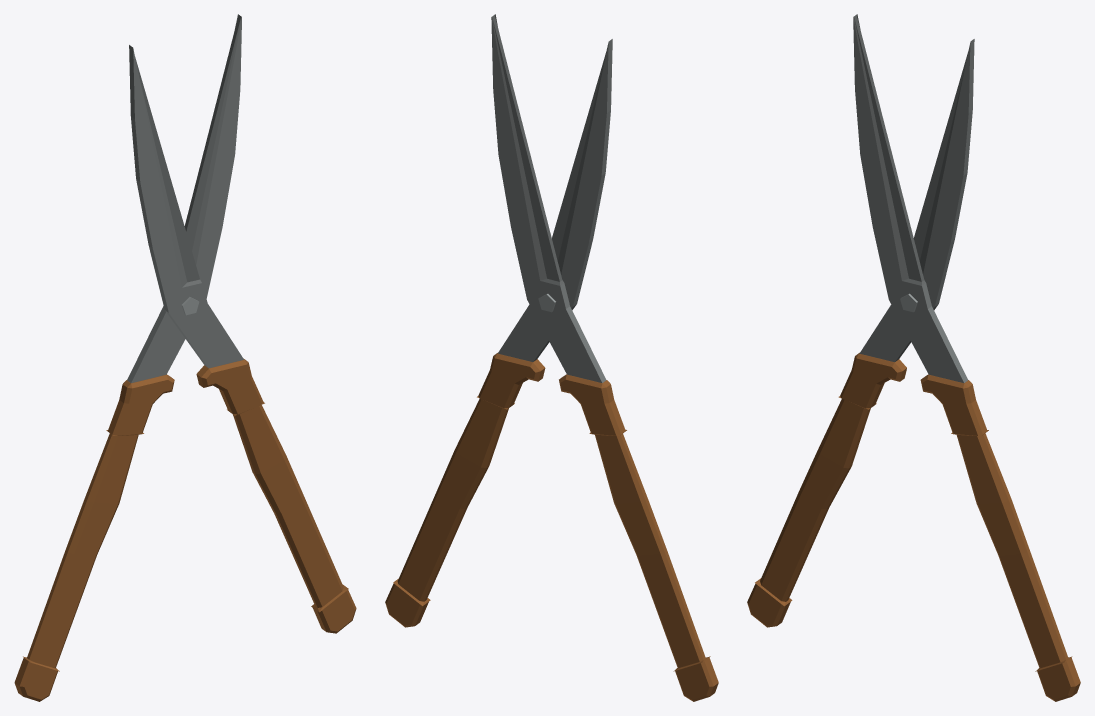
File: SM_Props_Farm_Tool_HedgeShear.fbx
The picture shows the model from 3 angles, left to right: view 1: azimuth 30°, elevation 25°; view 2: azimuth 150°, elevation 25°; view 3: azimuth 330°, elevation 25°; orthographic projection.
Visible parts, largest first — view 1: SM_Props_Farm_Tool_HedgeShear, SM_Props_Farm_Tool_HedgeShear_Left; view 2: SM_Props_Farm_Tool_HedgeShear_Left, SM_Props_Farm_Tool_HedgeShear; view 3: SM_Props_Farm_Tool_HedgeShear, SM_Props_Farm_Tool_HedgeShear_Left.
Boxes of the visible parts, x1,y1,x2,y2 form: SM_Props_Farm_Tool_HedgeShear: [129, 45, 356, 633]; SM_Props_Farm_Tool_HedgeShear_Left: [14, 14, 241, 701]; SM_Props_Farm_Tool_HedgeShear_Left: [491, 14, 718, 701]; SM_Props_Farm_Tool_HedgeShear: [385, 39, 612, 627]; SM_Props_Farm_Tool_HedgeShear: [853, 14, 1080, 701]; SM_Props_Farm_Tool_HedgeShear_Left: [747, 39, 974, 627].
Size of the model in its own units: 92.48 by 169 by 6.
